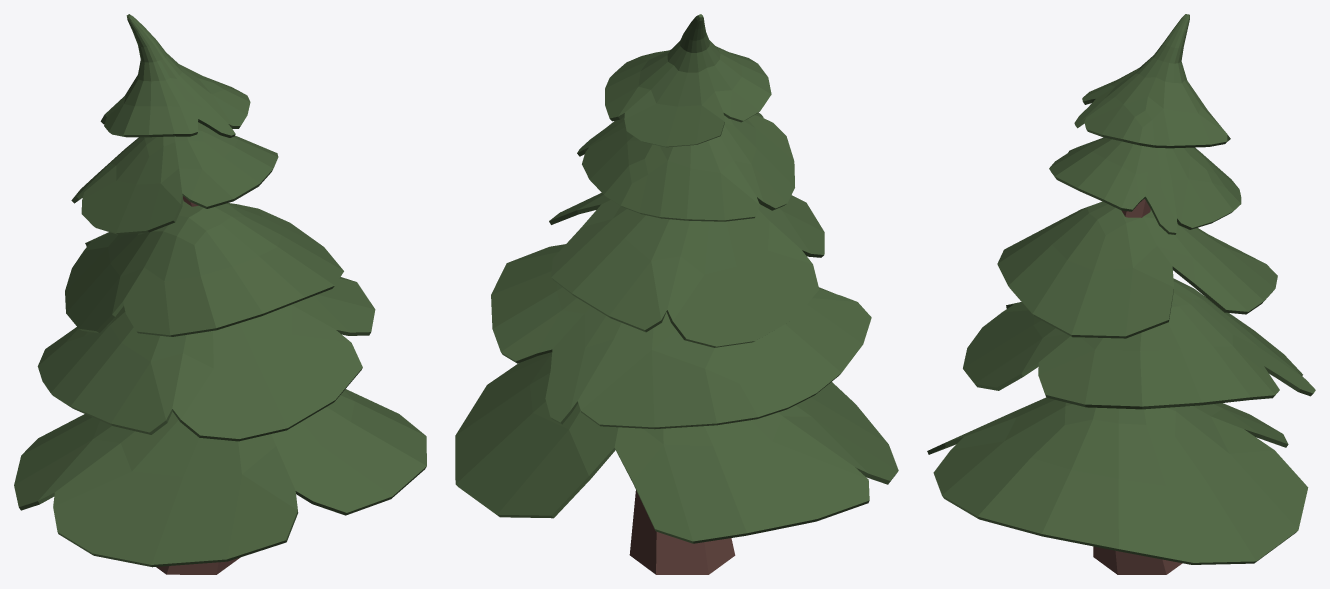
File: PineTree_1.glb
3 views of the same model, side by side, from view 1: azimuth 30°, elevation 25°; view 2: azimuth 150°, elevation 25°; view 3: azimuth 270°, elevation 25° (orthographic). The views are drawn at different scales.
Visible parts, largest first — view 1: PineTree_1_Cylinder.018; view 2: PineTree_1_Cylinder.018; view 3: PineTree_1_Cylinder.018.
Part boxes in pixels (x1,y1,x2,y2): PineTree_1_Cylinder.018: (14,14,426,574); PineTree_1_Cylinder.018: (455,14,898,574); PineTree_1_Cylinder.018: (927,14,1315,574).
Size of the model in its own units: 1.96 by 2.7 by 1.82.
